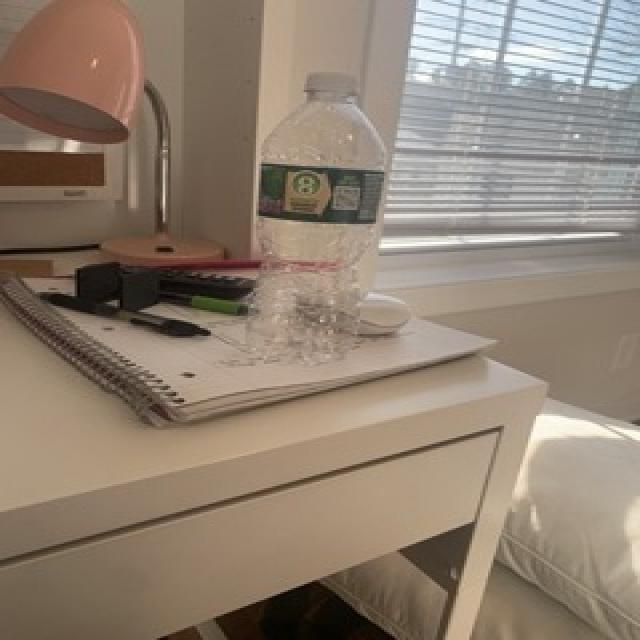water_bottle: (252, 69, 385, 364)
